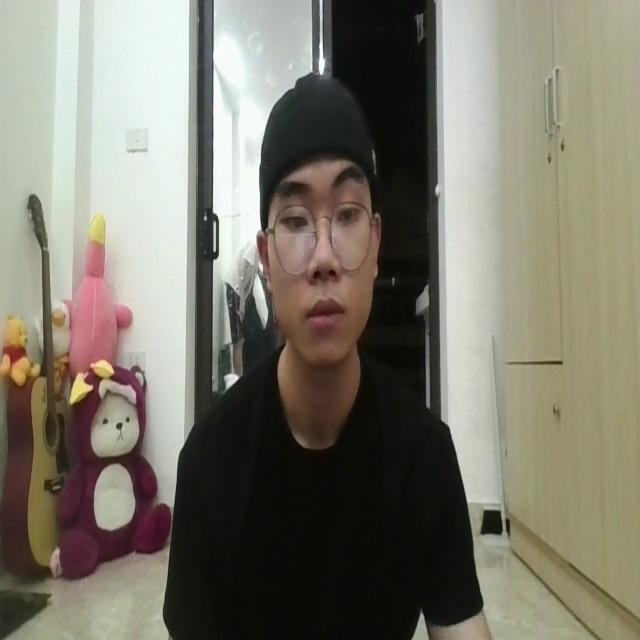student: (162, 73, 492, 640)
